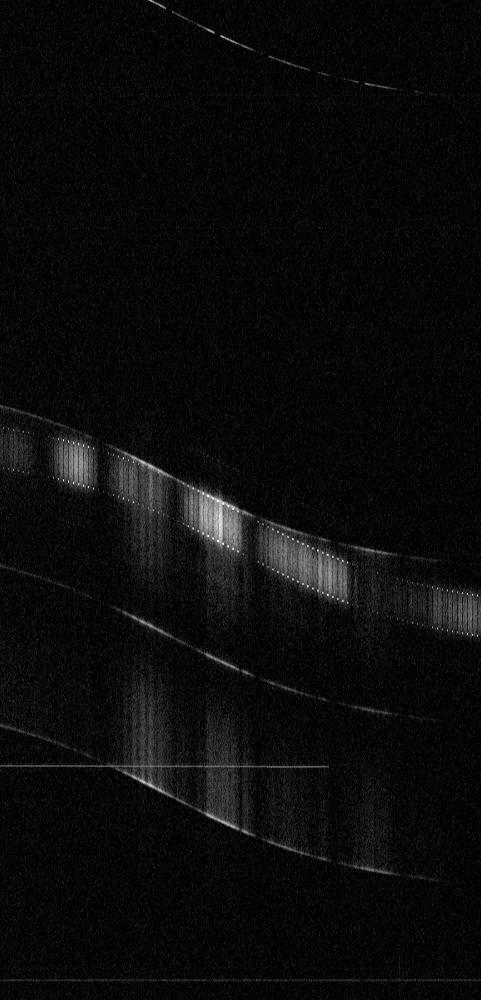signal: (0, 0, 480, 999)
